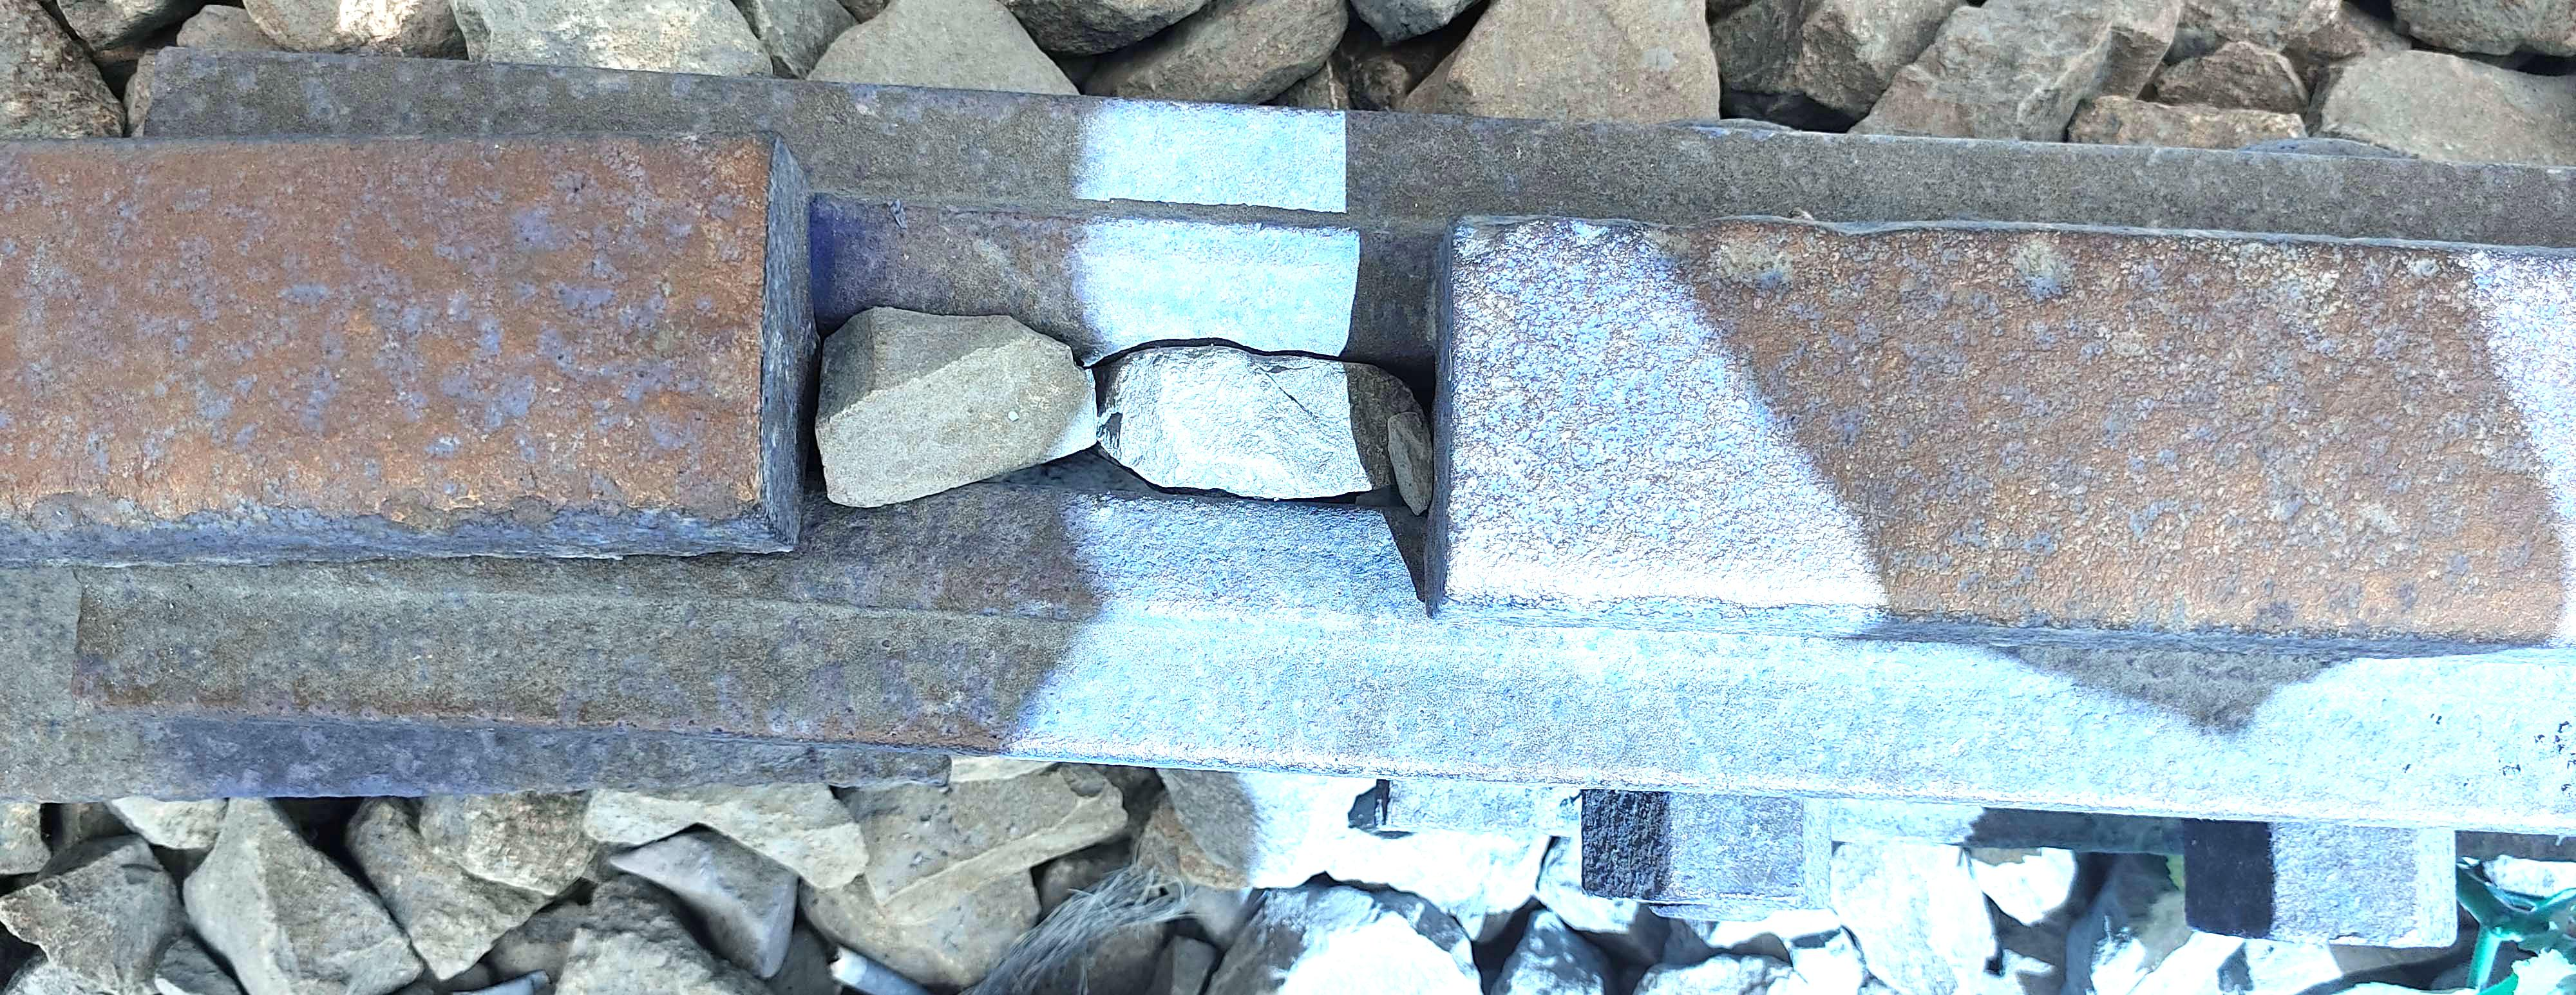error2: (713, 87, 1518, 658)
